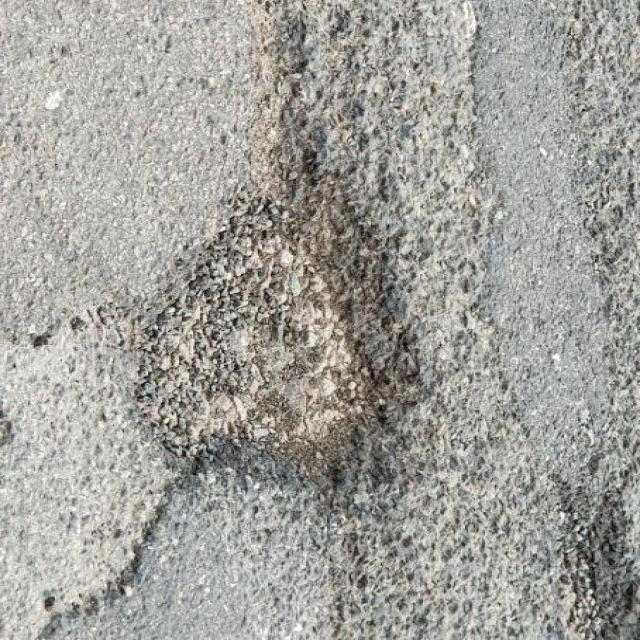Pothole: (117, 145, 430, 500)
